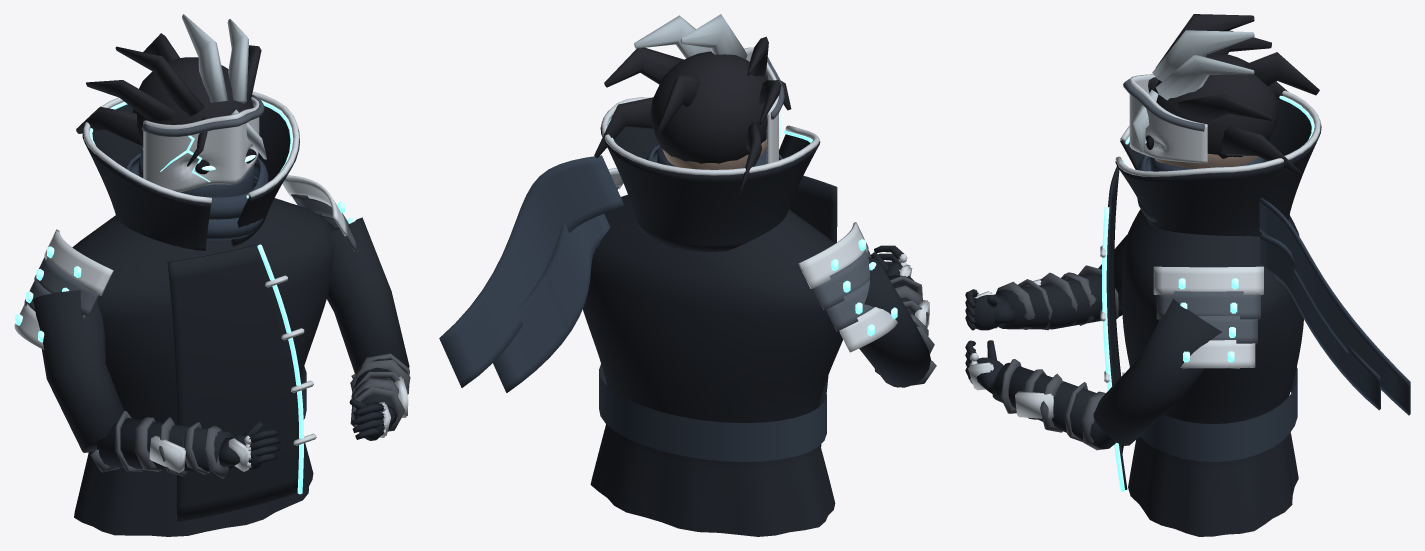
The model's file is mp_char_mistblade.glb.
3 renders of one model, left to right at view 1: azimuth 30°, elevation 25°; view 2: azimuth 150°, elevation 25°; view 3: azimuth 270°, elevation 25°, orthographic. The views are drawn at different scales.
Parts seen in each view (by area): view 1: MistObsidianWarCoat, MistCoatFrontFlap, MistHighWarCollar, MistCoatSleeve_L, MistCoatSleeve_R, MistCrackedHalfVisor, MistHairCrownBase, MistClothBandageWrap_L, MistForearmCore_L, MistClothBandageWrap_R, MistCollarSilverRim, MistLamellarSode_L_0 (+18 smaller); view 2: MistObsidianWarCoat, MistHighWarCollar, MistFlowingScarfTail_0, MistObiSash, MistHairCrownBase, MistFlowingScarfTail_1, MistCoatSleeve_L, MistCoatFrontFlap, MistCollarSilverRim, MistLamellarSode_L_0, MistHairSpike_4, MistLamellarSode_L_1 (+12 smaller); view 3: MistObsidianWarCoat, MistHighWarCollar, MistCoatSleeve_R, MistObiSash, MistFlowingScarfTail_0, MistHairCrownBase, MistFlowingScarfTail_1, MistForearmCore_L, MistCrackedHalfVisor, MistLamellarSode_R_0, MistForearmCore_R, MistClothBandageWrap_R (+19 smaller).
Boxes of the visible parts, x1,y1,x2,y2 form: MistObsidianWarCoat: (72, 198, 336, 536); MistCoatFrontFlap: (167, 244, 298, 521); MistHighWarCollar: (82, 104, 299, 250); MistCoatSleeve_L: (33, 290, 123, 452); MistCoatSleeve_R: (327, 217, 409, 374); MistCrackedHalfVisor: (143, 97, 259, 192); MistHairCrownBase: (132, 57, 253, 148); MistClothBandageWrap_L: (90, 410, 229, 478); MistForearmCore_L: (97, 418, 233, 471); MistClothBandageWrap_R: (350, 353, 410, 438); MistCollarSilverRim: (83, 91, 299, 203); MistLamellarSode_L_0: (44, 229, 113, 295); MistObsidianWarCoat: (582, 194, 842, 536); MistHighWarCollar: (600, 116, 820, 251); MistFlowingScarfTail_0: (439, 155, 623, 387); MistObiSash: (599, 364, 826, 461); MistHairCrownBase: (650, 51, 767, 163); MistFlowingScarfTail_1: (493, 214, 610, 392); MistCoatSleeve_L: (859, 257, 930, 387); MistCoatFrontFlap: (789, 175, 837, 446); MistCollarSilverRim: (601, 97, 819, 175); MistLamellarSode_L_0: (798, 222, 868, 288); MistHairSpike_4: (604, 47, 683, 87); MistLamellarSode_L_1: (813, 250, 871, 310); MistObsidianWarCoat: (1122, 209, 1303, 536); MistHighWarCollar: (1115, 100, 1321, 236); MistCoatSleeve_R: (1093, 299, 1221, 445); MistObiSash: (1129, 367, 1297, 461); MistFlowingScarfTail_0: (1259, 197, 1410, 415); MistHairCrownBase: (1153, 53, 1278, 158); MistFlowingScarfTail_1: (1260, 234, 1380, 410); MistForearmCore_L: (996, 273, 1122, 329); MistCrackedHalfVisor: (1129, 74, 1207, 163); MistLamellarSode_R_0: (1153, 266, 1263, 294); MistForearmCore_R: (992, 362, 1116, 449); MistClothBandageWrap_R: (1000, 359, 1105, 450).
Size of the model in its own units: 0.672 by 0.8669 by 0.7675.
